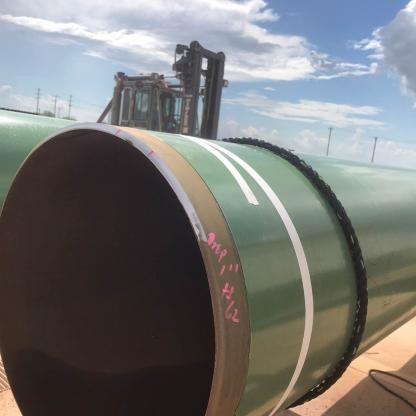Bevel: (120, 134, 138, 154)
